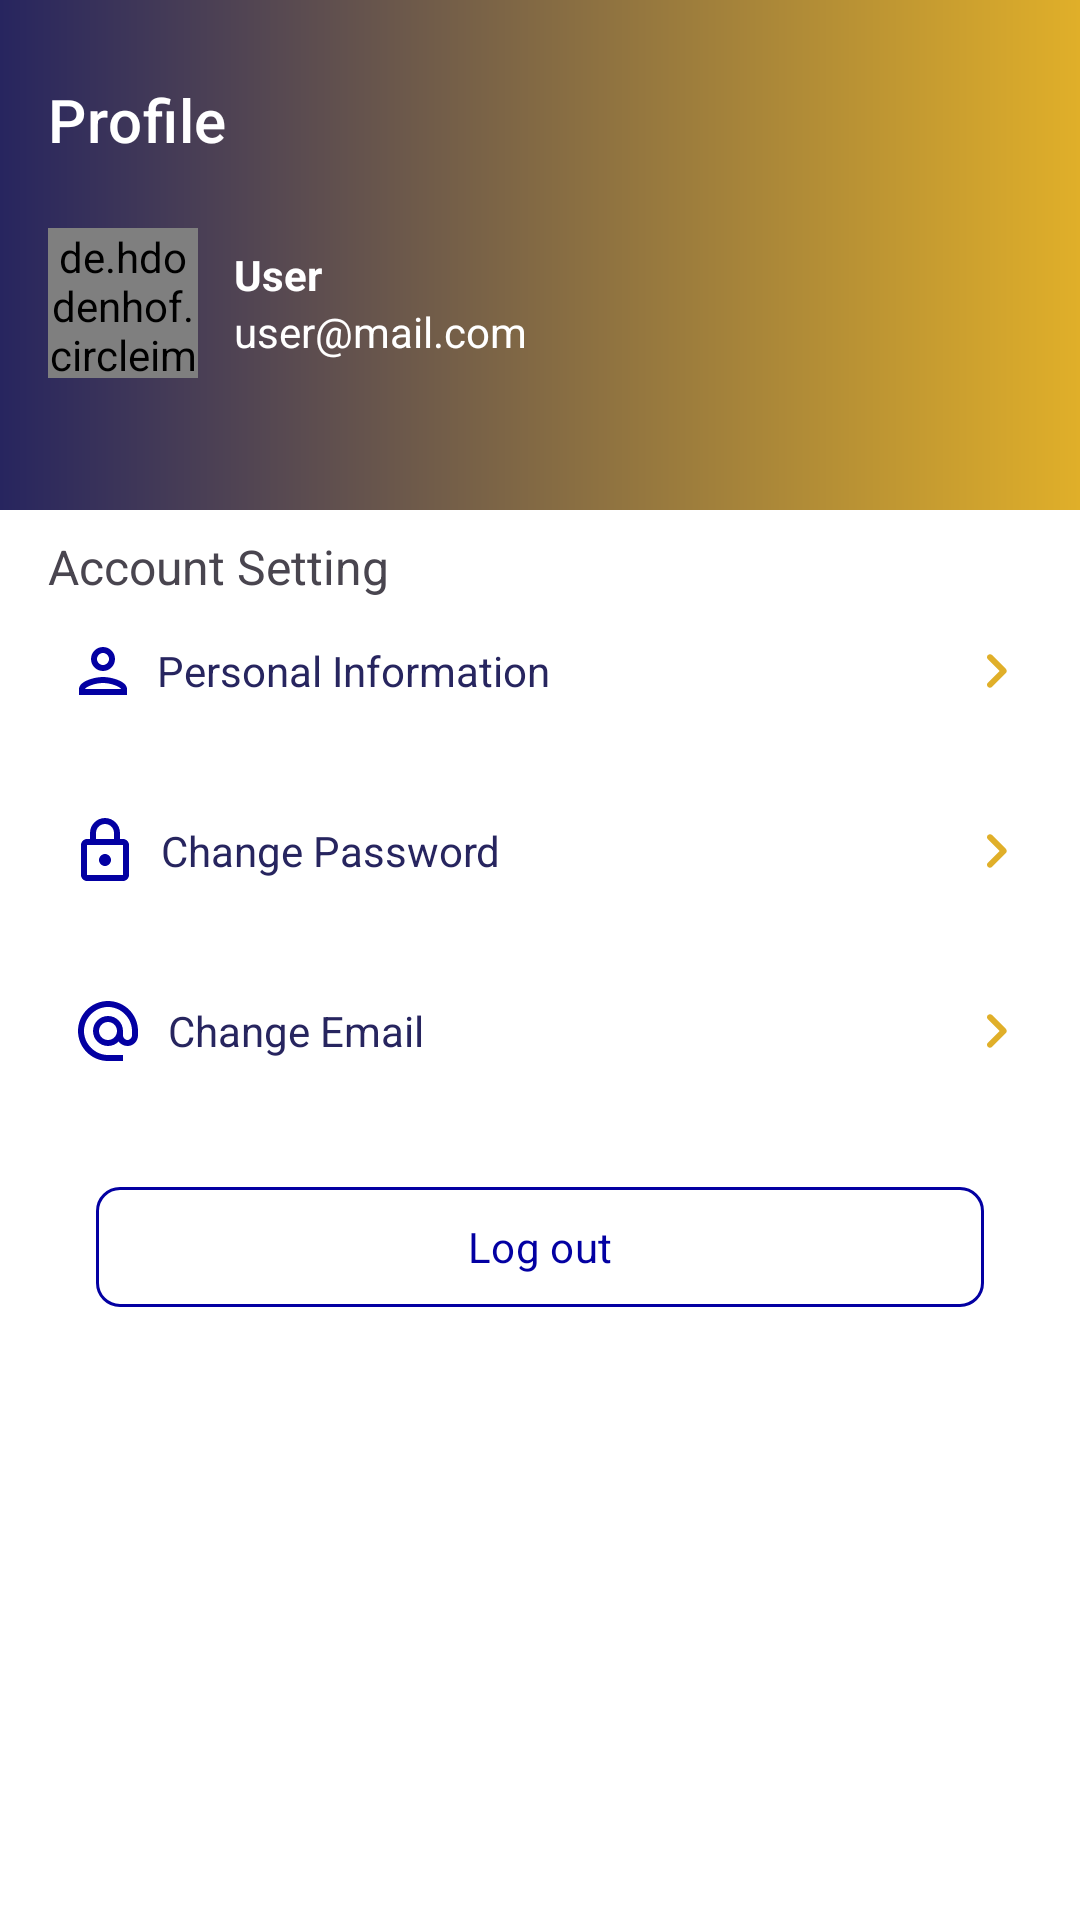

Named icons in this screenshot (1080px x 1920px) and their bounding boxes, (x1, y1, x2, y2):
go to: (987, 654, 1007, 688), (987, 834, 1007, 868), (987, 1014, 1007, 1048)
lock: (81, 818, 129, 881)
person profile: (79, 647, 127, 695)
